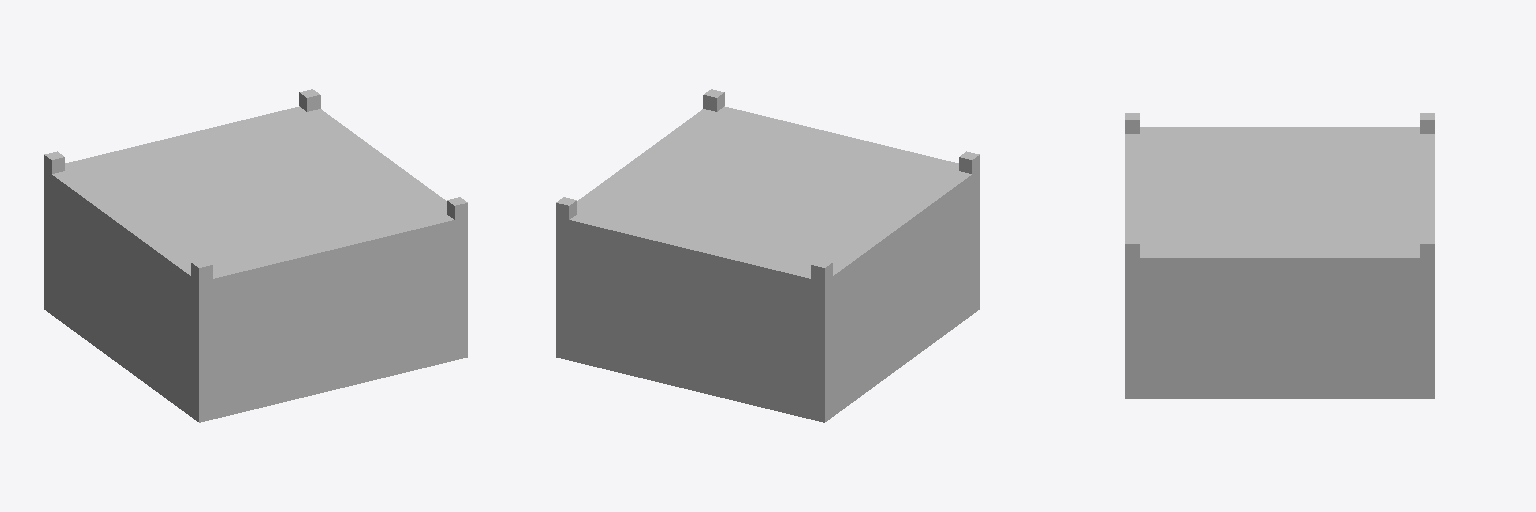
Rendered from cross_X.obj.
3 views of the same model, side by side, from view 1: azimuth 30°, elevation 25°; view 2: azimuth 150°, elevation 25°; view 3: azimuth 270°, elevation 25° (orthographic).
Visible parts, largest first — view 1: x_Cross_Plane.003, x_Cross.001_Plane.001; view 2: x_Cross_Plane.003, x_Cross.001_Plane.001; view 3: x_Cross_Plane.003, x_Cross.001_Plane.001.
Boxes of the visible parts, <box> form: x_Cross_Plane.003: <box>44,89,467,422</box>; x_Cross.001_Plane.001: <box>52,106,453,278</box>; x_Cross_Plane.003: <box>556,89,979,422</box>; x_Cross.001_Plane.001: <box>570,106,971,278</box>; x_Cross_Plane.003: <box>1125,113,1434,398</box>; x_Cross.001_Plane.001: <box>1125,127,1434,257</box>.
Bounding box in the file's own units: 12 × 6.6 × 12.